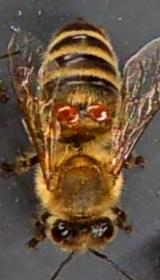varroa_mite: (49, 94, 80, 133), (82, 96, 117, 126)
